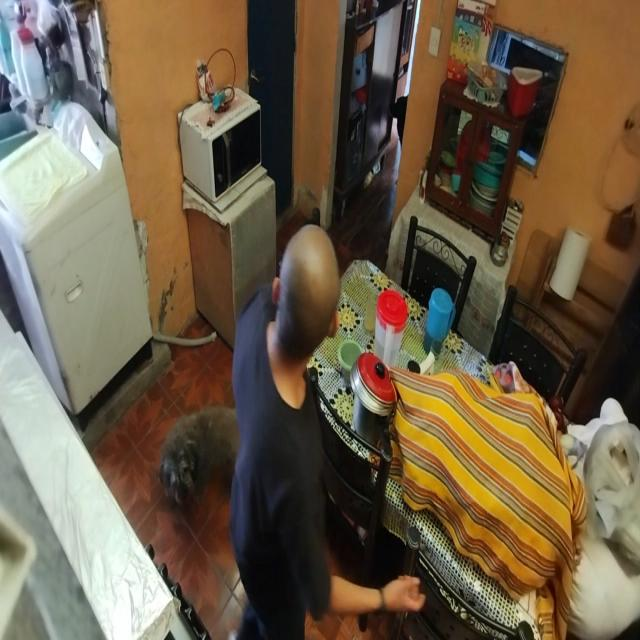adult: (232, 222, 425, 640)
